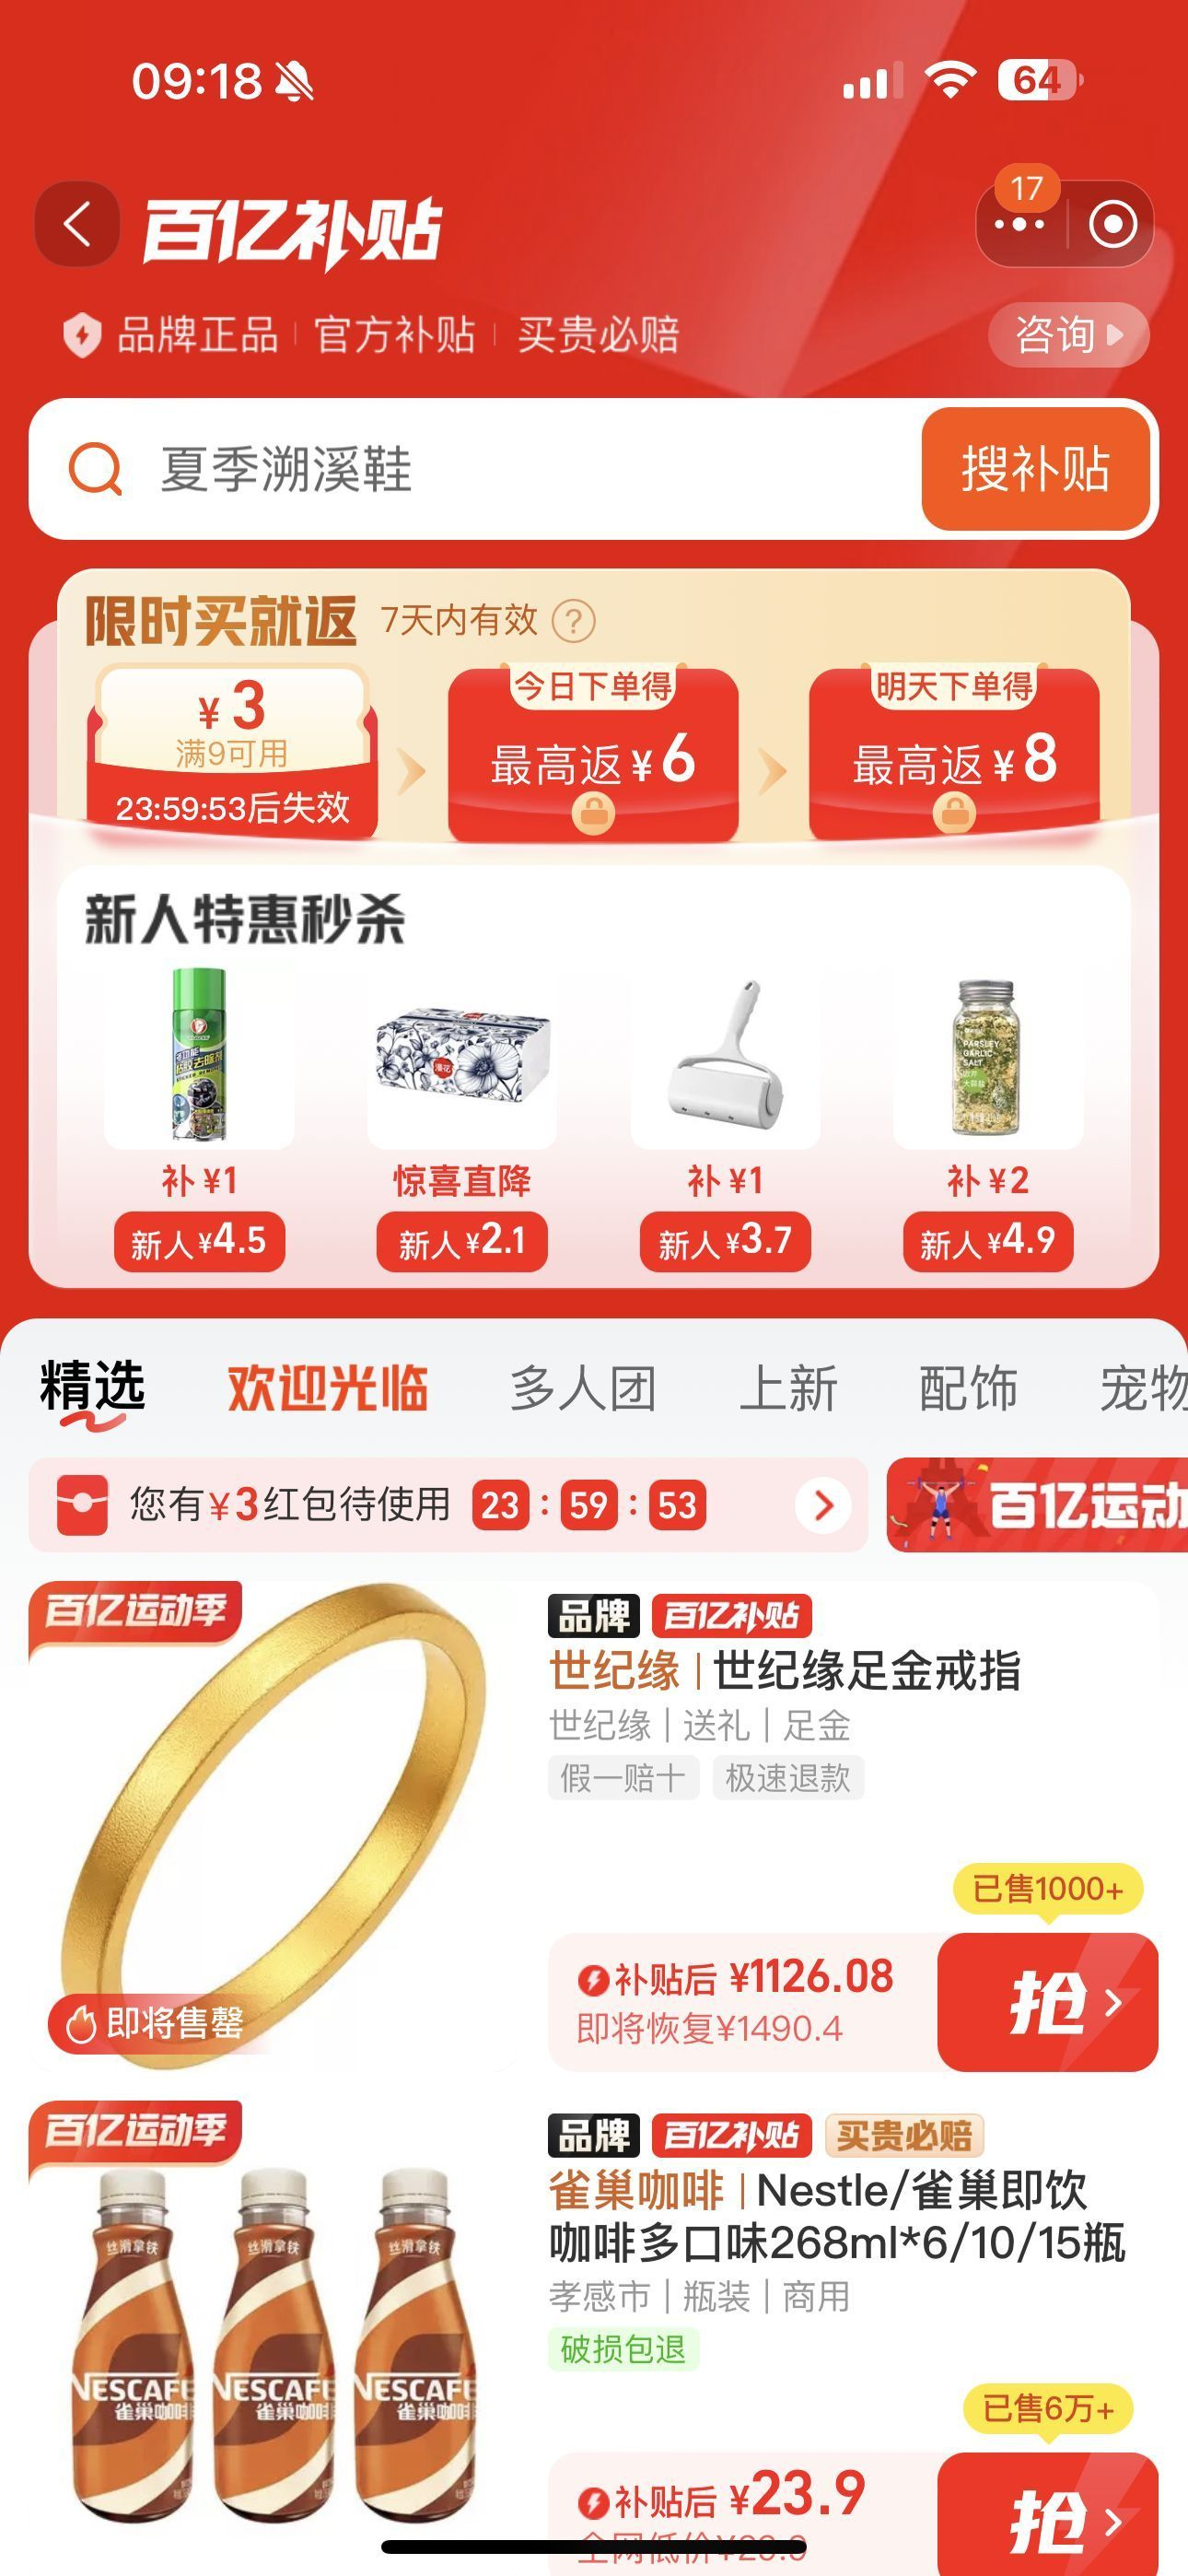item: (12, 1556, 1186, 2103), (2, 2111, 1183, 2576)
op_bar: (2, 159, 1183, 291)
seckill: (8, 550, 1178, 1304)
